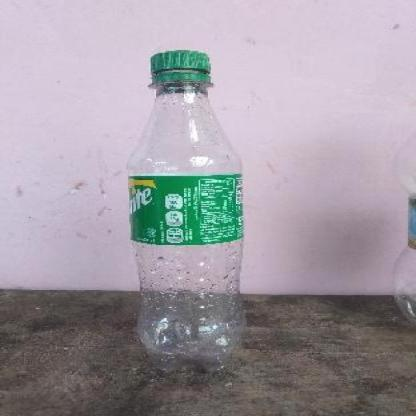plastic_bottles: (127, 47, 252, 376)
